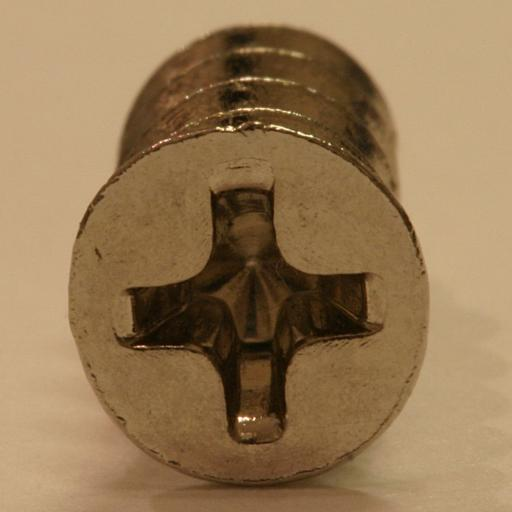Phillips: (68, 126, 435, 489)
